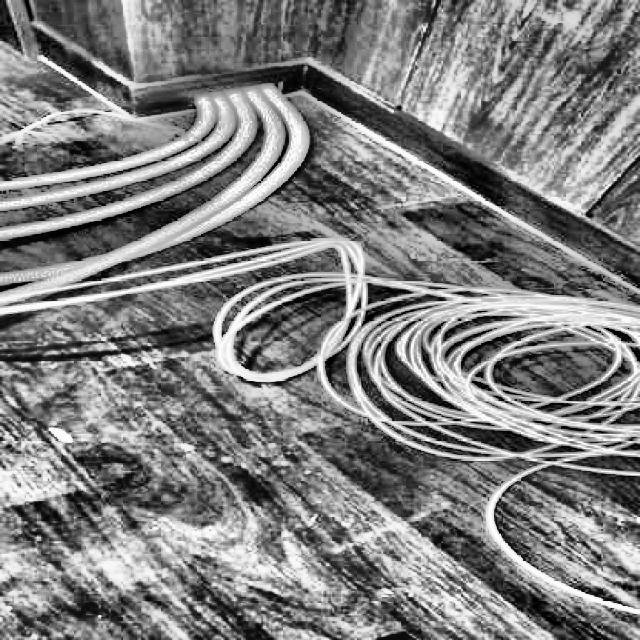Cable: (0, 80, 640, 612)
